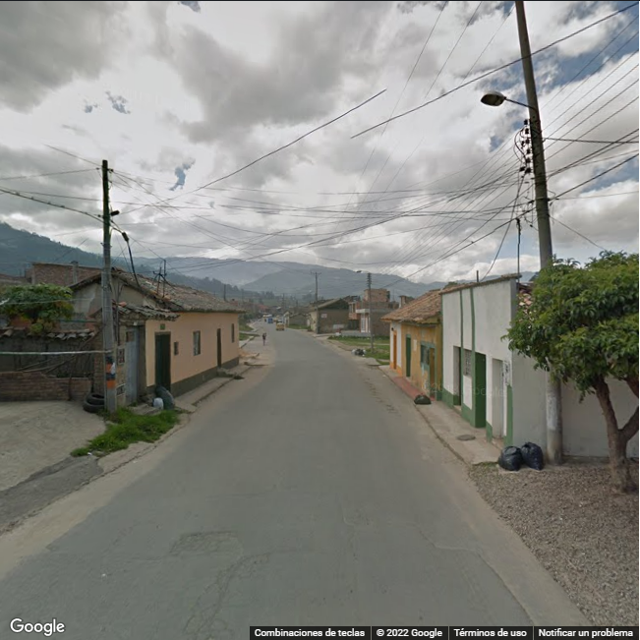D00: (200, 563, 239, 639), (174, 577, 217, 636), (348, 523, 358, 564)
D40: (161, 521, 238, 559)
